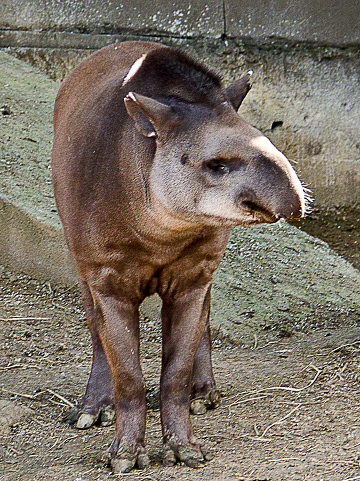Anta: (37, 36, 316, 474)
